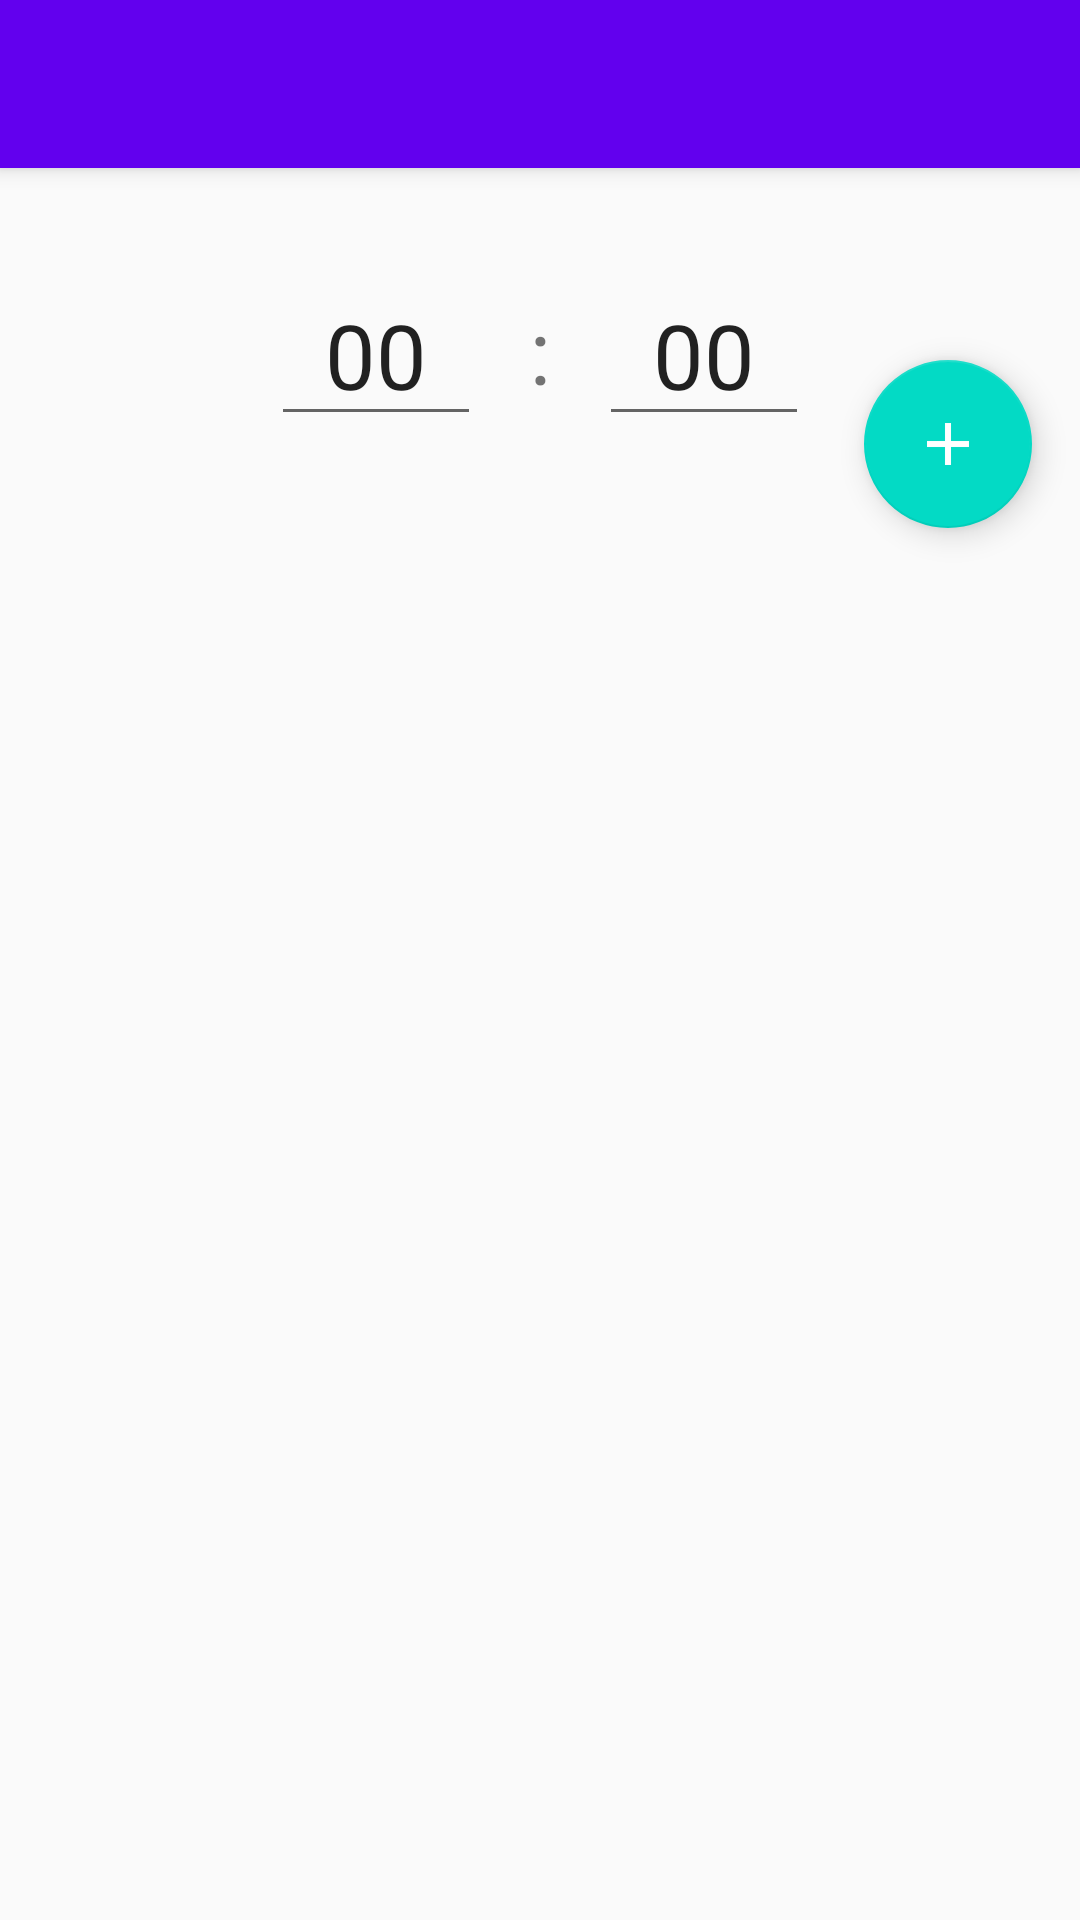

Icon click points for this 1080px x 1920px phone screenshot, format (x,y):
add: (948,444)
